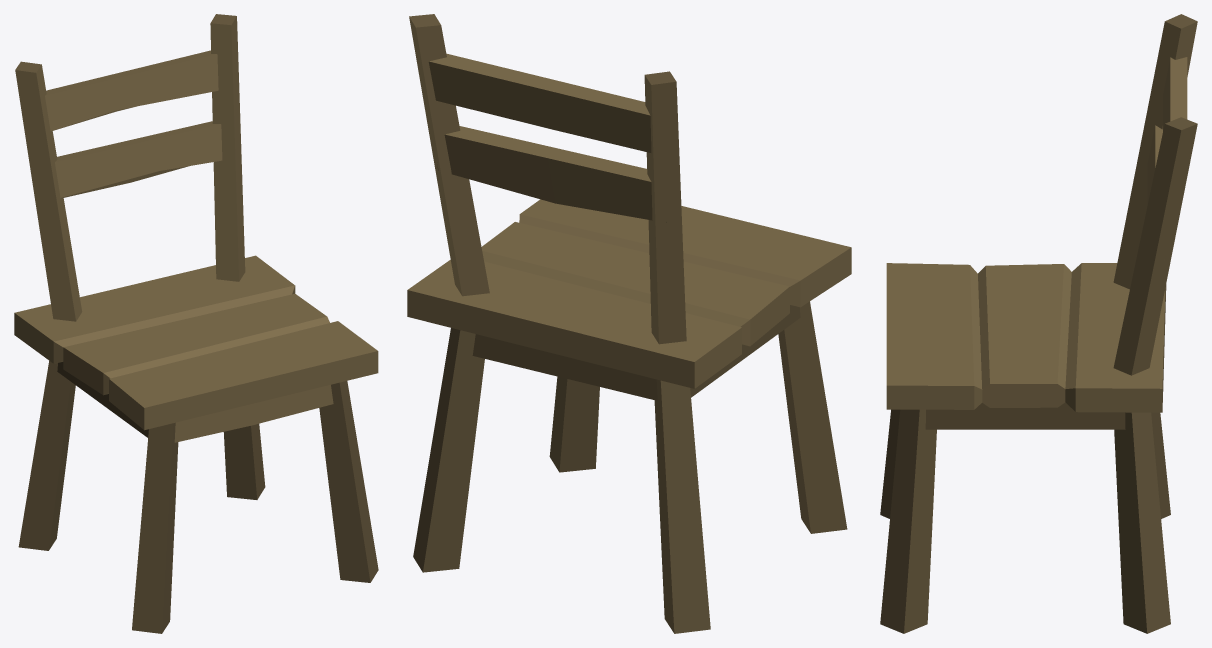
File: Chair_1.fbx
3 views of the same model, side by side, from view 1: azimuth 30°, elevation 25°; view 2: azimuth 150°, elevation 25°; view 3: azimuth 270°, elevation 25° (orthographic). The views are drawn at different scales.
Visible parts, largest first — view 1: Chair_1; view 2: Chair_1; view 3: Chair_1.
Boxes of the visible parts, <box> form: Chair_1: <box>14,14,378,633</box>; Chair_1: <box>407,14,851,633</box>; Chair_1: <box>880,14,1197,633</box>.
Bounding box in the file's own units: 53.04 × 95.14 × 55.02.
